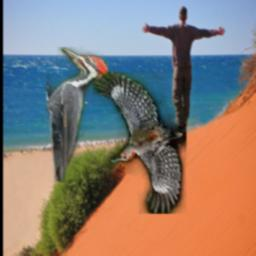Woodpecker: (94, 73, 187, 215), (47, 48, 109, 183)
